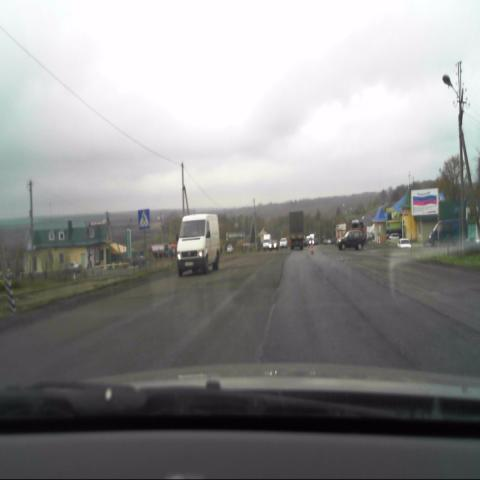5_19_1: (138, 207, 150, 229)
